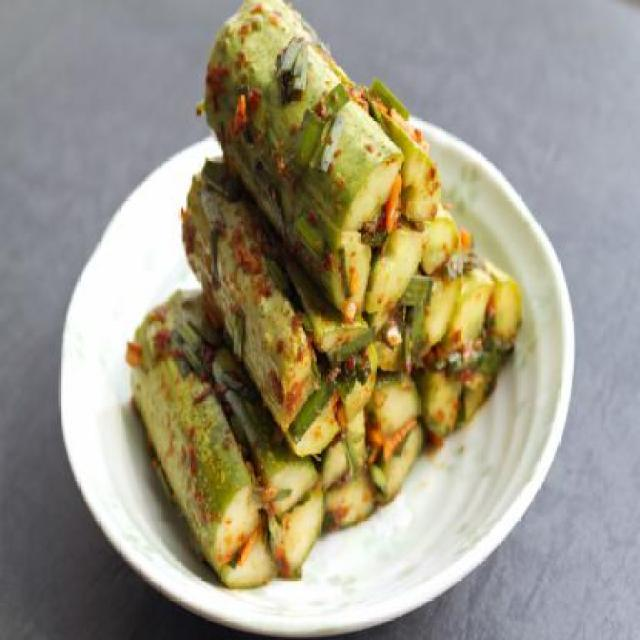Zucchini: (143, 1, 537, 550)
